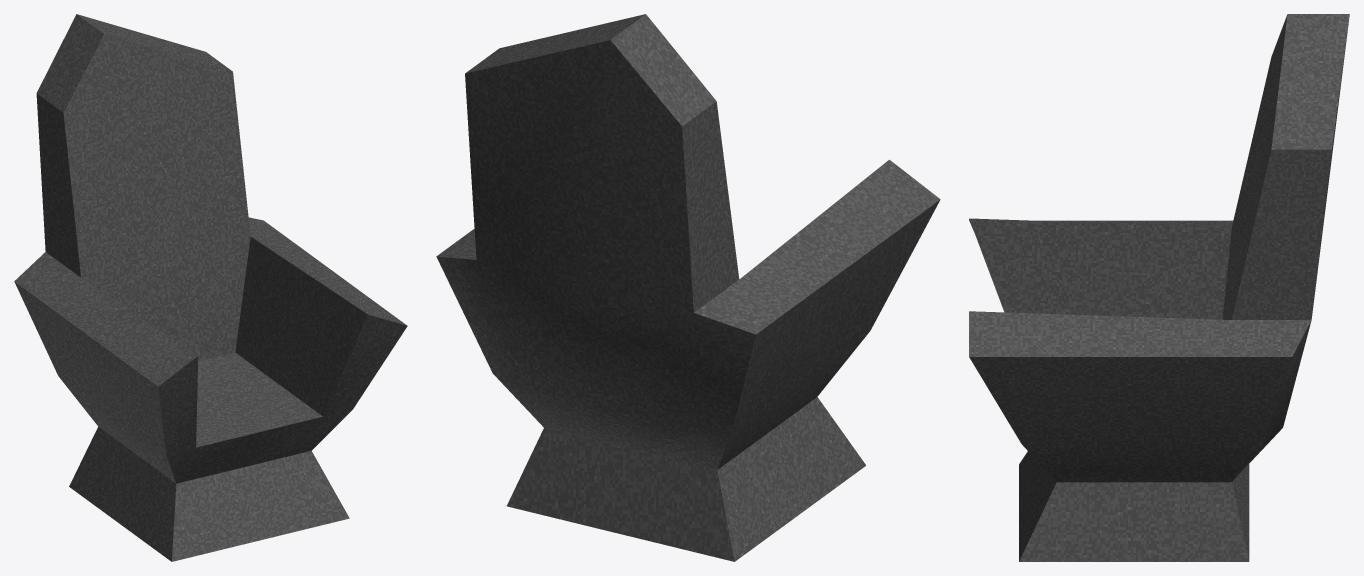
File: Chair.fbx
3 views of the same model, side by side, from view 1: azimuth 30°, elevation 25°; view 2: azimuth 150°, elevation 25°; view 3: azimuth 270°, elevation 25° (orthographic). The views are drawn at different scales.
Visible parts, largest first — view 1: Cube.021; view 2: Cube.021; view 3: Cube.021.
Boxes of the visible parts, x1,y1,x2,y2 form: Cube.021: [14, 14, 407, 561]; Cube.021: [436, 14, 940, 561]; Cube.021: [969, 14, 1349, 561].
Bounding box in the file's own units: 135 × 220 × 159.
